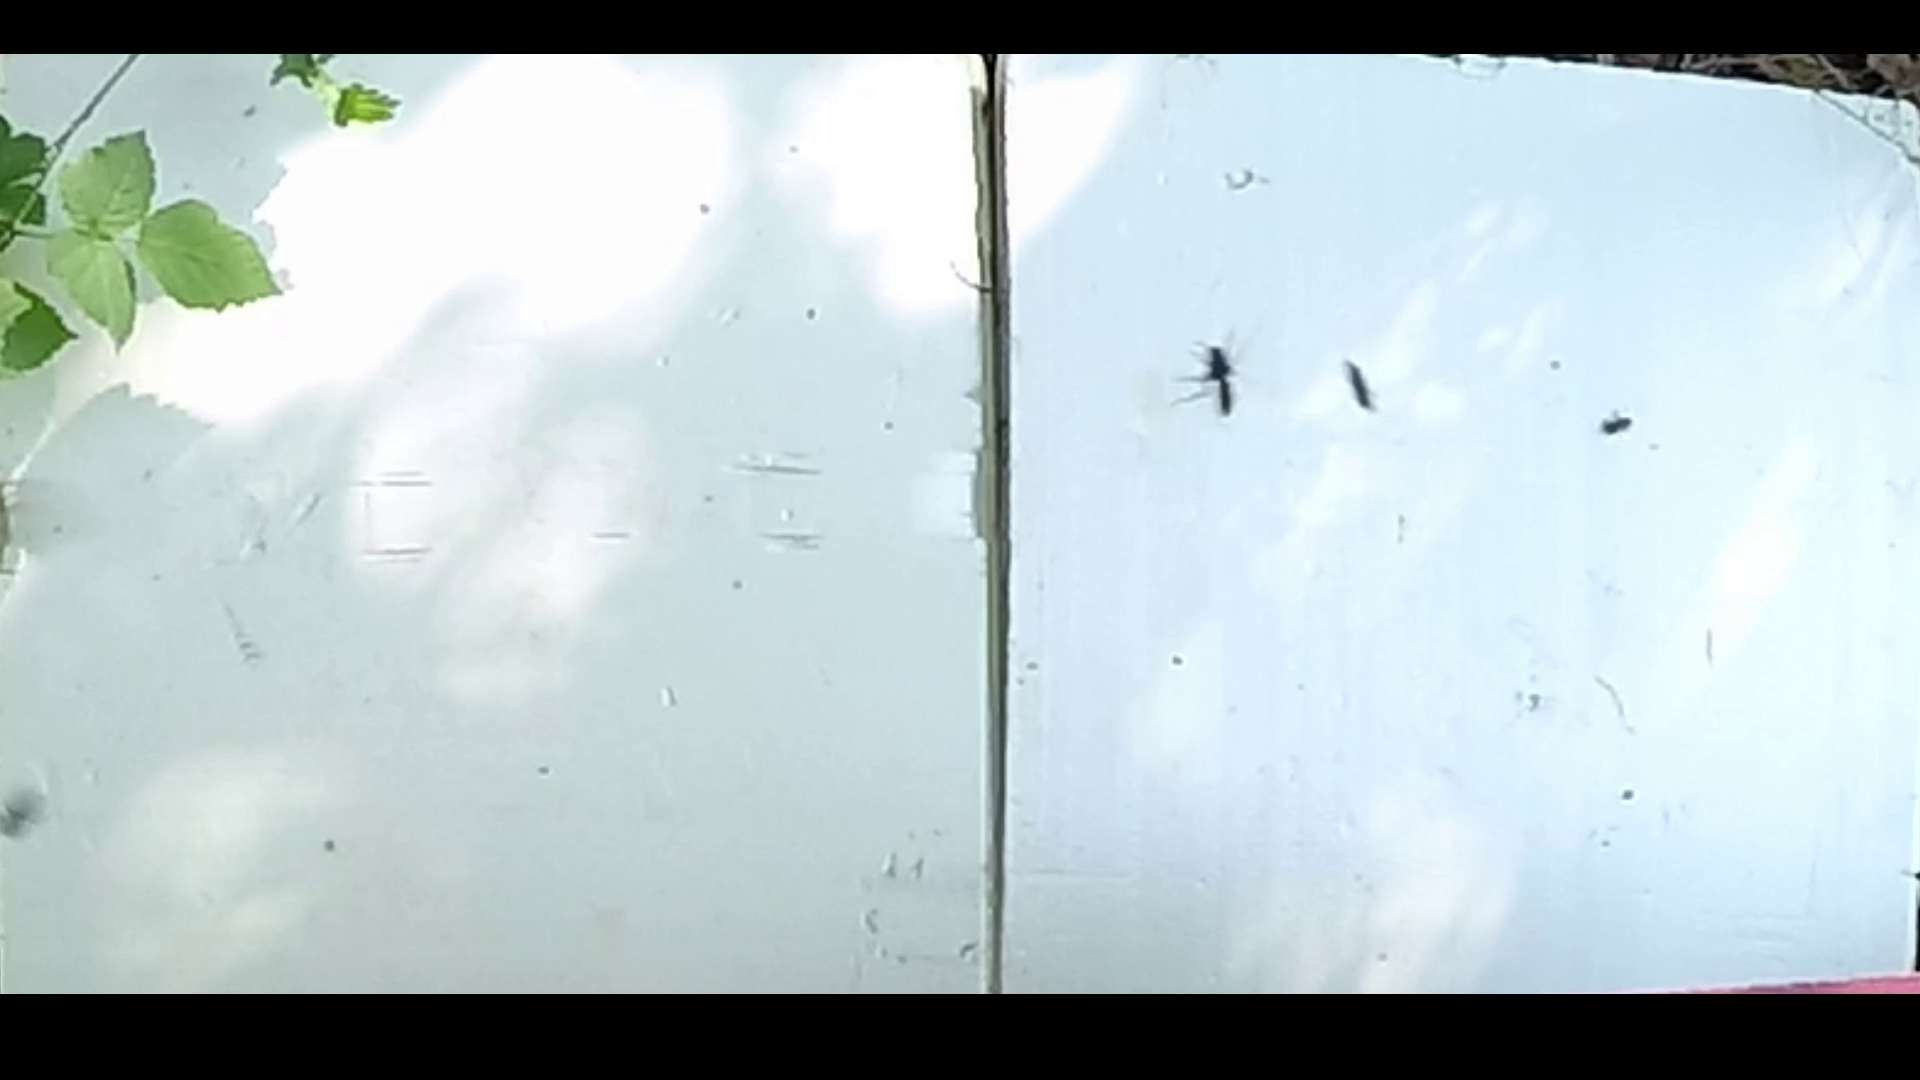Asian_hornets: (1171, 322, 1270, 430)
